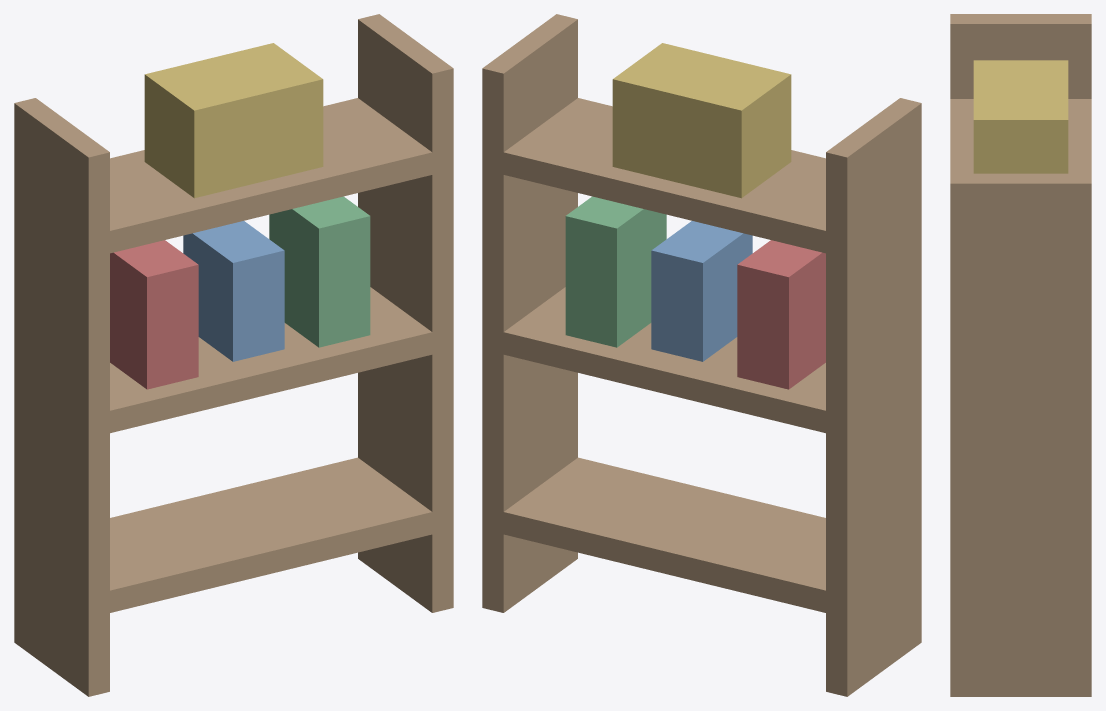
Rendered from kid_prateleira_inf.glb.
3 renders of one model, left to right at view 1: azimuth 30°, elevation 25°; view 2: azimuth 150°, elevation 25°; view 3: azimuth 270°, elevation 25°, orthographic. The views are drawn at different scales.
Visible parts, largest first — view 1: KID_PRATELEIRA_INF_v01; view 2: KID_PRATELEIRA_INF_v01; view 3: KID_PRATELEIRA_INF_v01.
Part boxes in pixels (box(x1,y1,x2,y2)): KID_PRATELEIRA_INF_v01: box(14, 14, 453, 696); KID_PRATELEIRA_INF_v01: box(482, 14, 921, 696); KID_PRATELEIRA_INF_v01: box(950, 14, 1091, 696).
Size of the model in its own units: 0.85 by 1.22 by 0.3.
